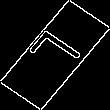L_SE: (22, 28, 88, 82)
